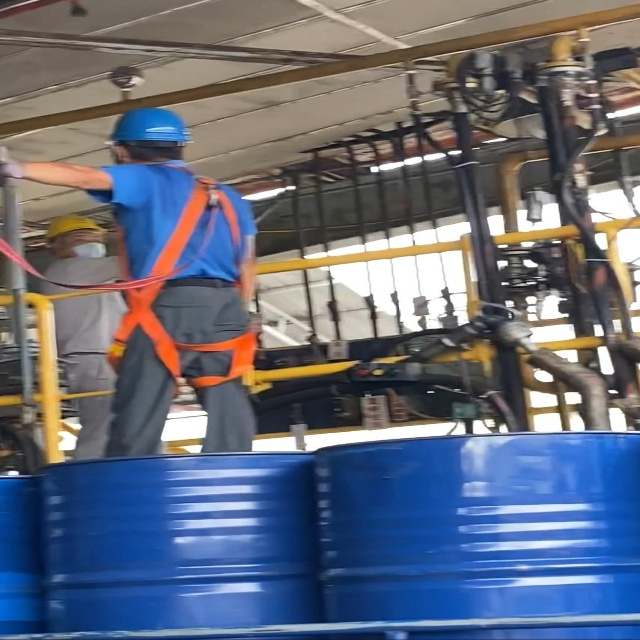Arnes_seguridad: (100, 166, 265, 401)
